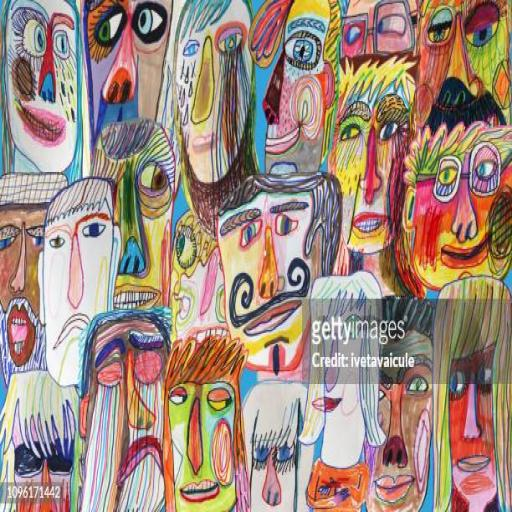person: (218, 174, 341, 374), (174, 0, 255, 234), (79, 309, 170, 511), (434, 276, 511, 510), (404, 124, 511, 288), (329, 56, 415, 254), (38, 178, 120, 385), (250, 0, 341, 173), (92, 120, 175, 308), (301, 329, 385, 510), (164, 336, 249, 511), (367, 298, 434, 511), (0, 174, 66, 386), (0, 0, 81, 172), (83, 0, 173, 140), (416, 0, 510, 130), (0, 369, 78, 511), (244, 382, 313, 511), (171, 212, 227, 341), (341, 0, 417, 58)
